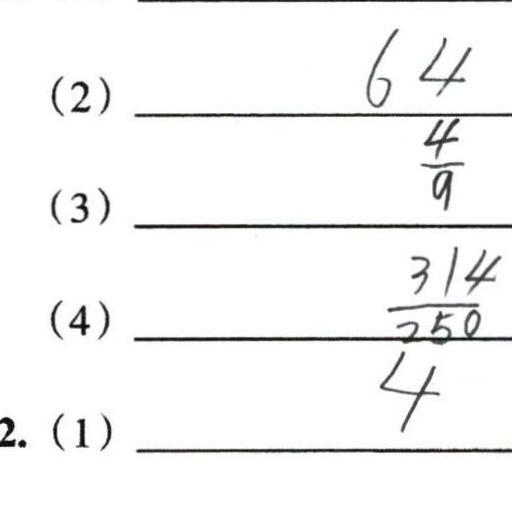ans: (384, 242, 502, 341), (363, 25, 474, 111), (376, 350, 444, 434), (413, 112, 466, 211)
